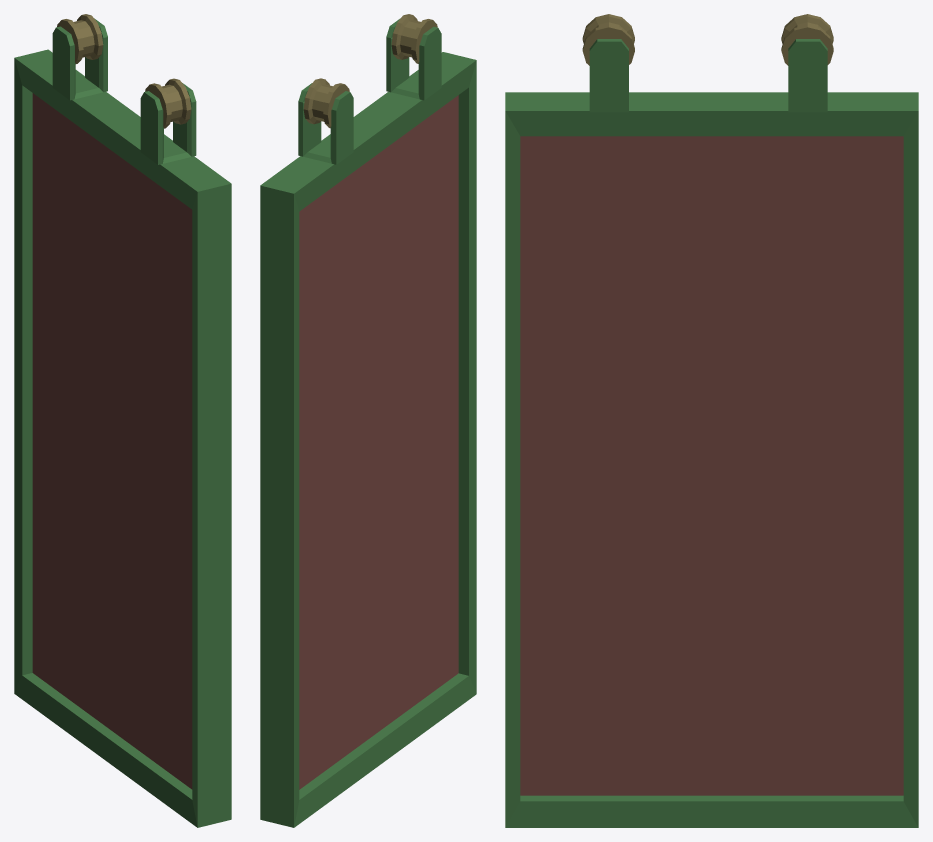
Rendered from staticMesh_prop_SlideDoor.fbx.
3 renders of one model, left to right at view 1: azimuth 30°, elevation 25°; view 2: azimuth 150°, elevation 25°; view 3: azimuth 270°, elevation 25°, orthographic. The views are drawn at different scales.
Visible parts, largest first — view 1: polySurface22; view 2: polySurface22; view 3: polySurface22.
Boxes of the visible parts, bbox=[...] form: polySurface22: bbox=[14, 14, 231, 827]; polySurface22: bbox=[260, 14, 476, 827]; polySurface22: bbox=[505, 14, 918, 827].
Bounding box in the file's own units: 16.32 × 289 × 136.
